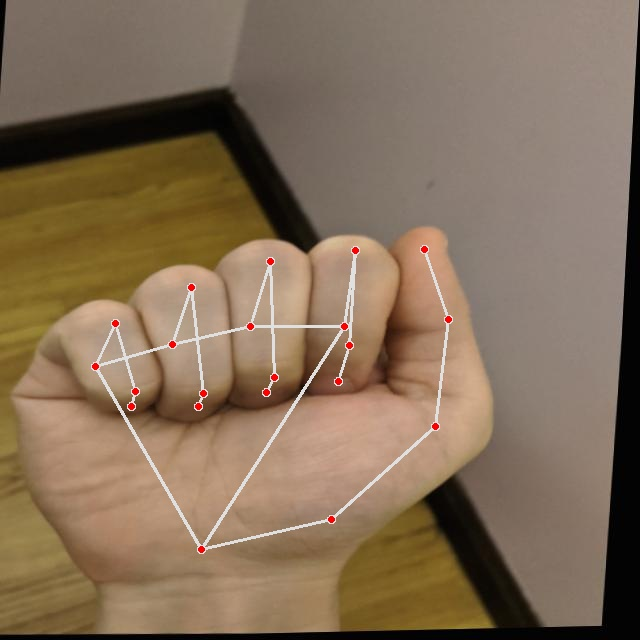A: (0, 213, 518, 606)
